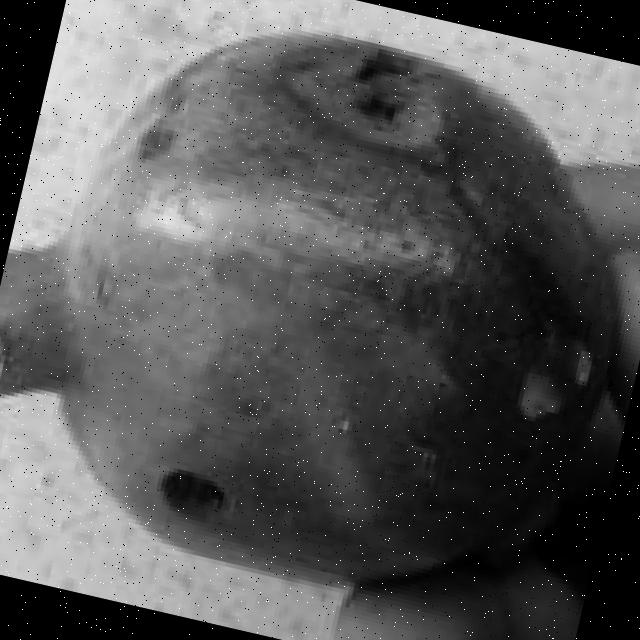Bad_Pomegranate-0-1-day: (0, 30, 617, 594)
